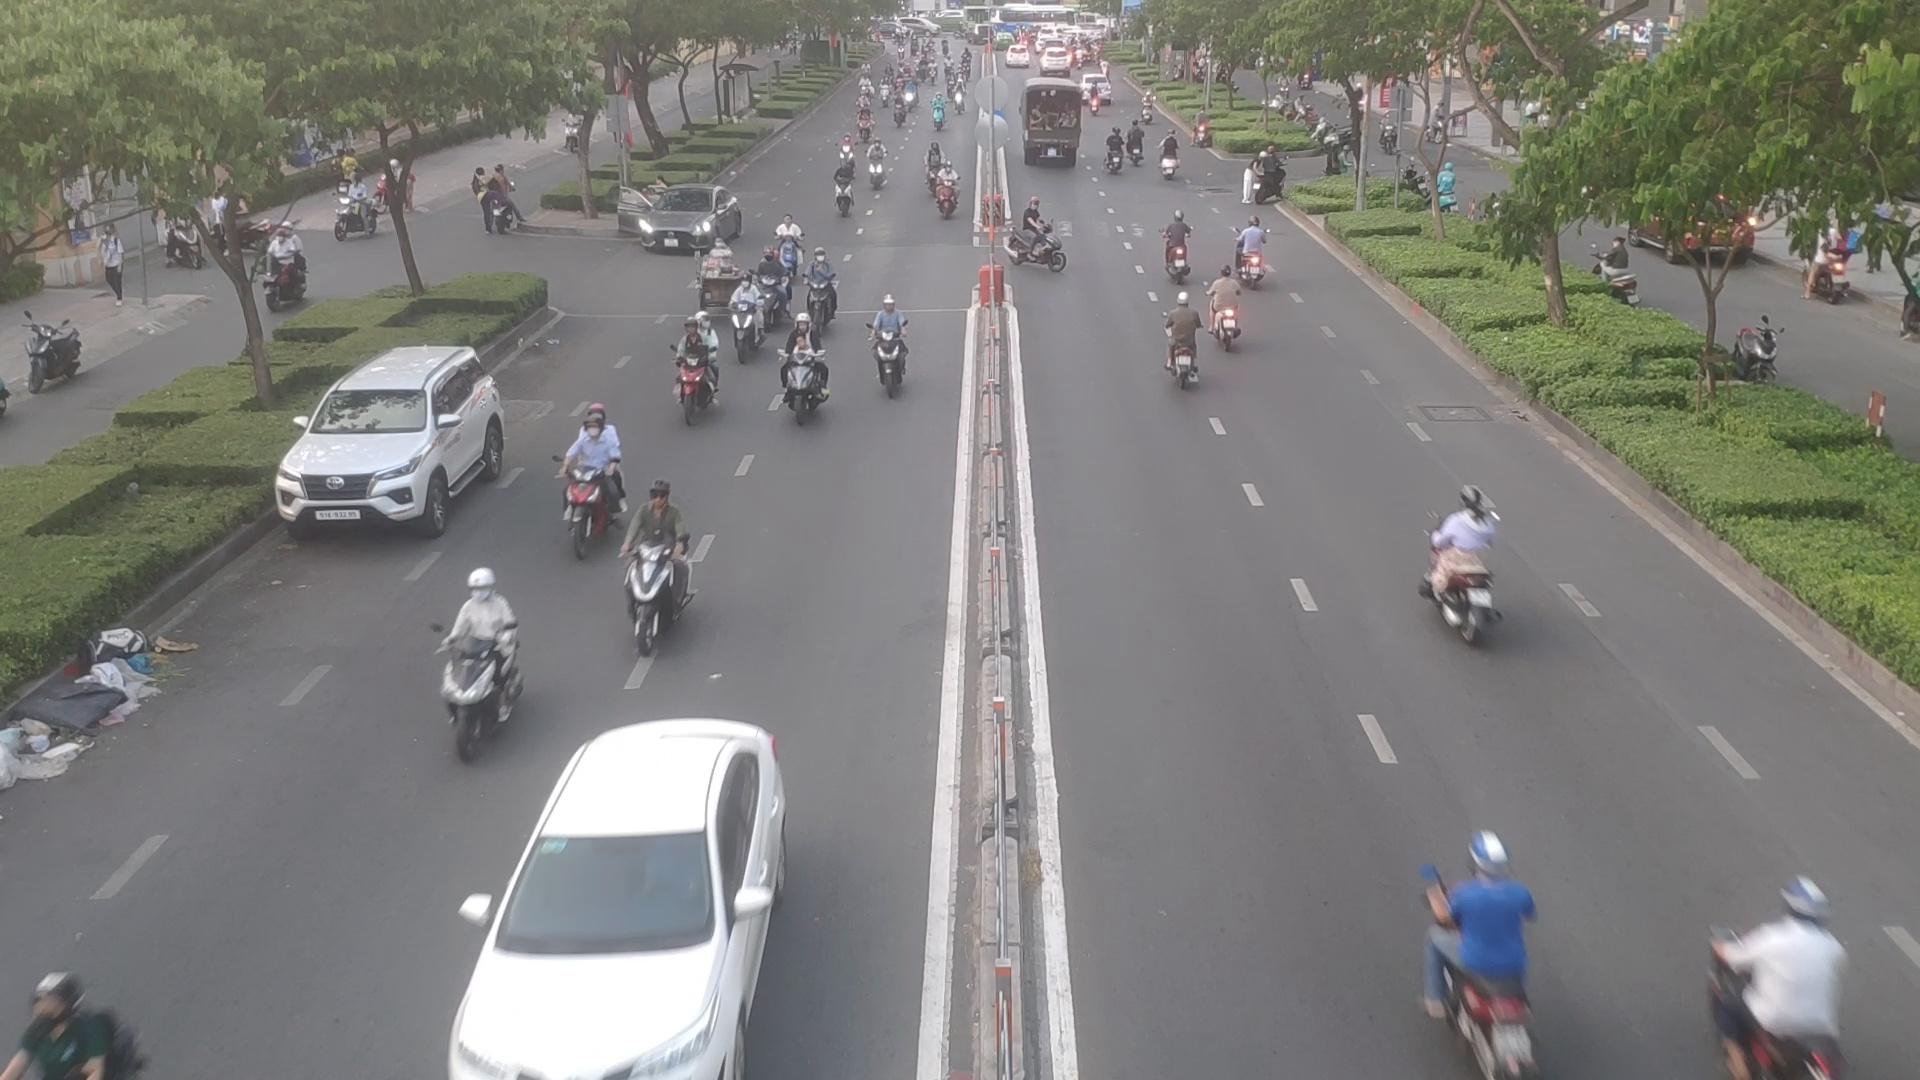car: (451, 723, 790, 1077), (273, 345, 512, 535), (5, 670, 152, 783), (618, 187, 742, 258)
motorbike: (1709, 866, 1880, 1080), (1406, 827, 1547, 1080), (11, 949, 150, 1080), (1414, 462, 1509, 634), (434, 624, 527, 760), (630, 464, 691, 649), (556, 394, 624, 560), (661, 301, 720, 419), (1153, 284, 1207, 392), (866, 289, 907, 390), (1010, 199, 1073, 264), (721, 274, 764, 357), (778, 353, 832, 415), (1244, 140, 1291, 210), (1236, 218, 1276, 295), (807, 240, 840, 327), (1211, 266, 1244, 353), (1167, 211, 1203, 284), (779, 211, 804, 284), (862, 131, 890, 191), (1156, 129, 1189, 179), (1101, 124, 1130, 179), (934, 160, 959, 220), (833, 156, 855, 222)
